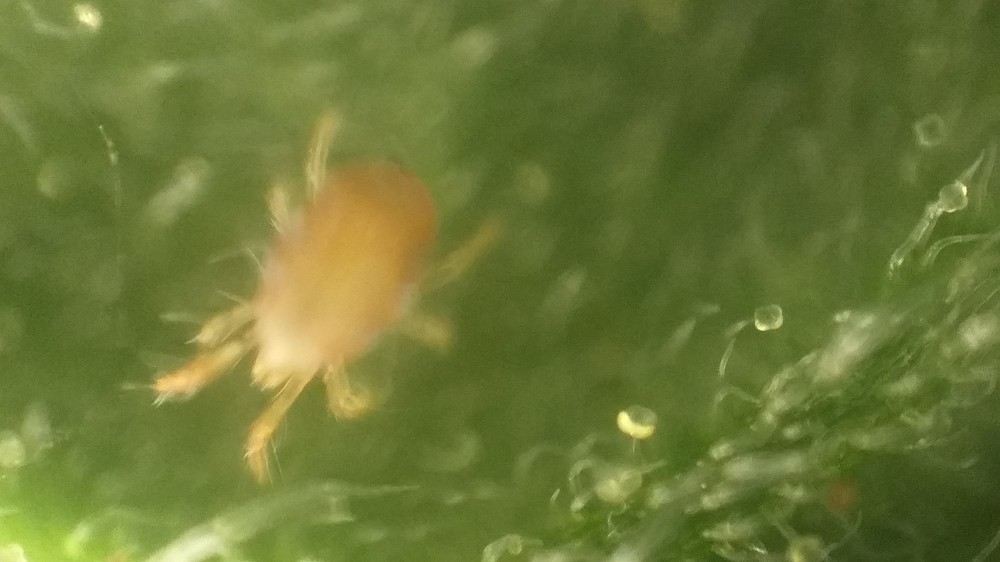Aracnido Rojo: (142, 111, 530, 482)
